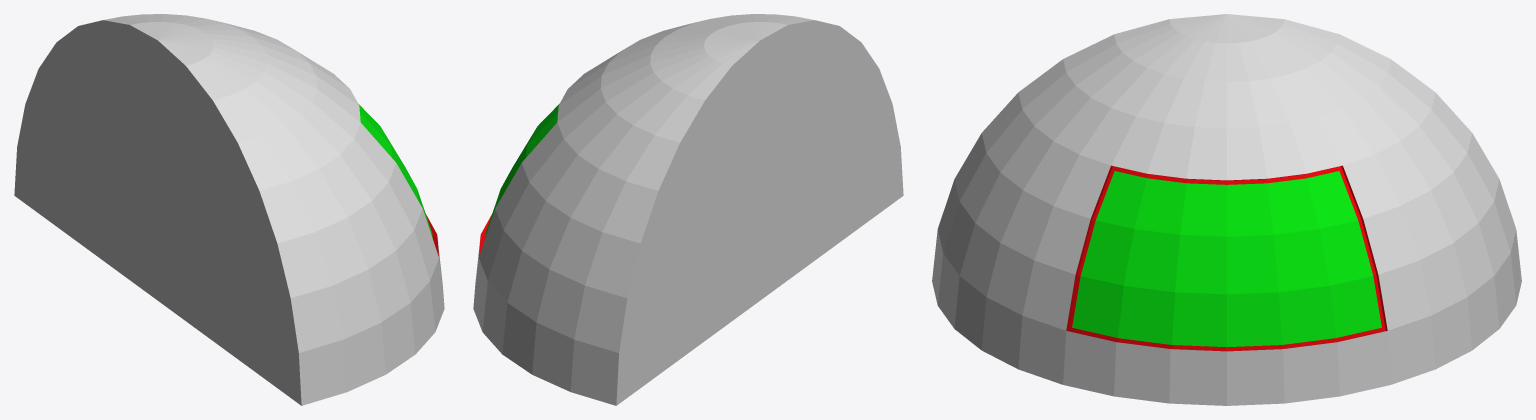
The model's file is Ship1.fbx.
The picture shows the model from 3 angles, left to right: view 1: azimuth 30°, elevation 25°; view 2: azimuth 150°, elevation 25°; view 3: azimuth 270°, elevation 25°; orthographic projection. The views are drawn at different scales.
Visible parts, largest first — view 1: Sphere; view 2: Sphere; view 3: Sphere.
Part boxes in pixels (bbox=[...]): Sphere: bbox=[14, 14, 444, 405]; Sphere: bbox=[473, 14, 903, 405]; Sphere: bbox=[932, 14, 1521, 405].
Bounding box in the file's own units: 2917 × 2917 × 5834.
